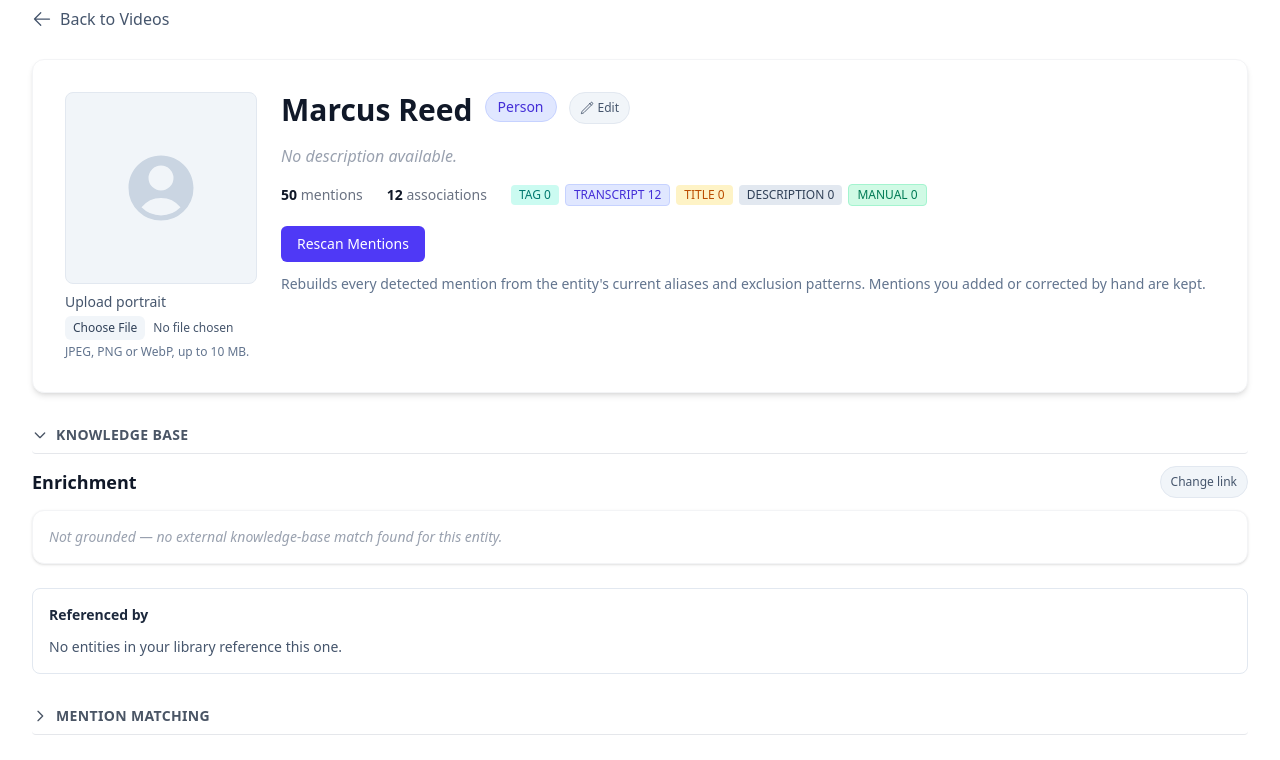
EntityDetailPage — alias case-sensitivity toggle (#177) › reflects an alias that already opted in
Click the button "Mention matching": x=133, y=716 x1=32 y1=698 x2=1248 y2=735
(page scrolled)
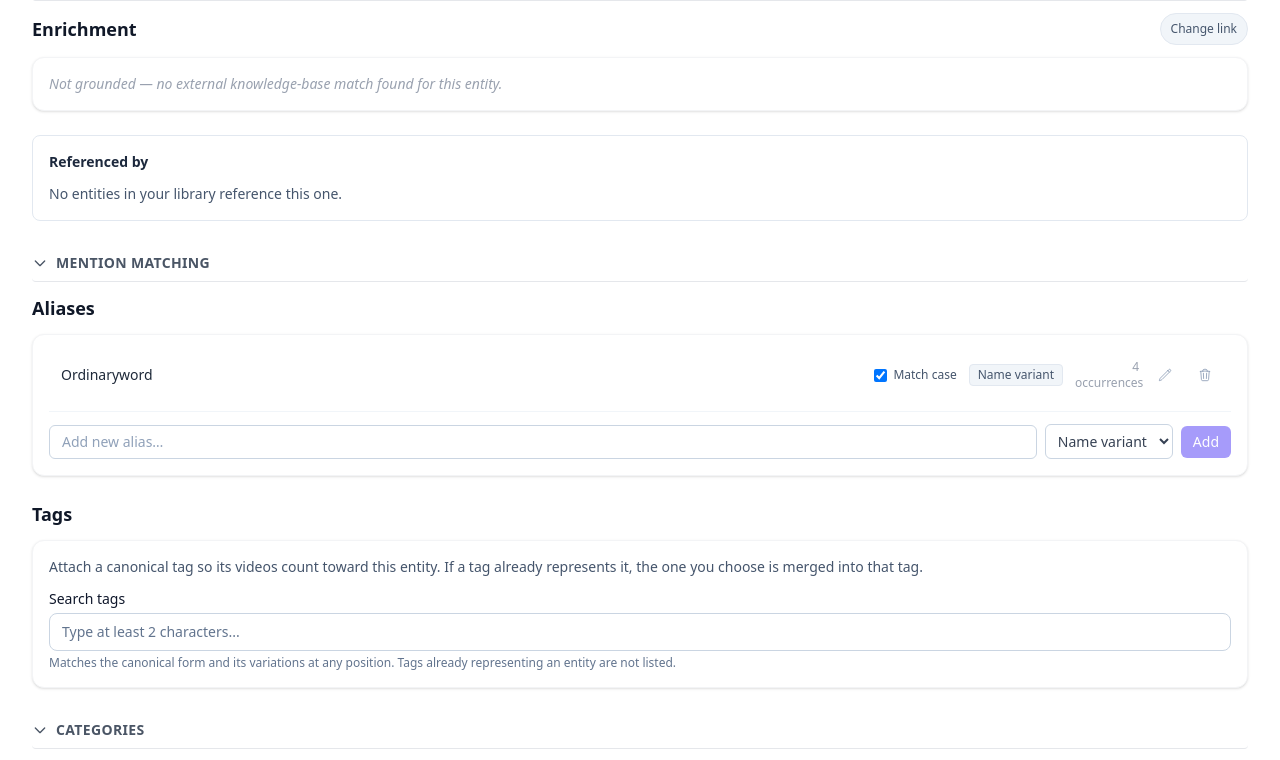
Expected: the checkbox labelled "Match case" is checked, x1=874 y1=368 x2=887 y2=382
